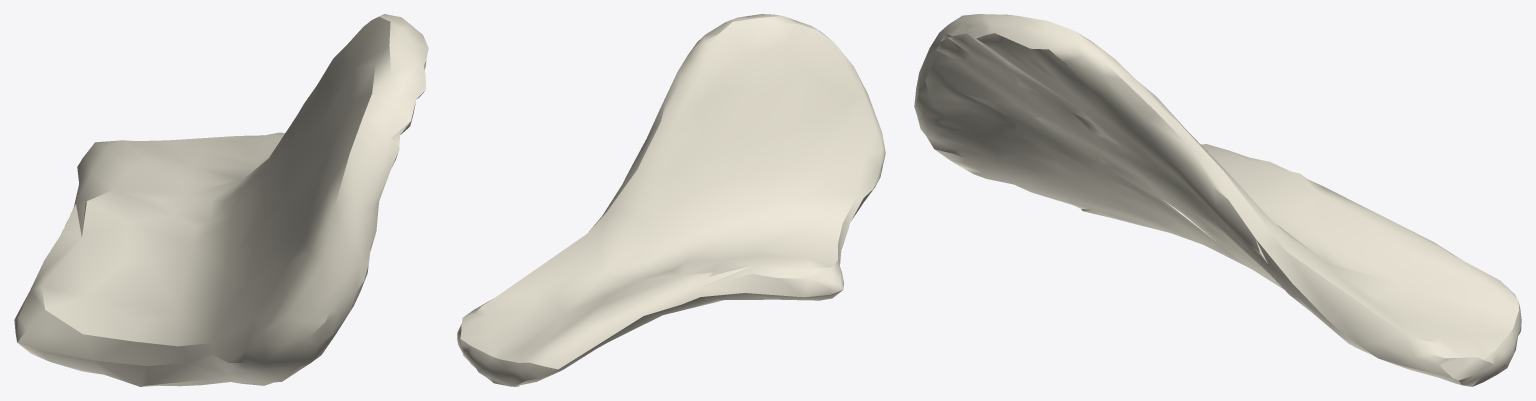
Rendered from fma44252_mm1382m.glb.
3 renders of one model, left to right at view 1: azimuth 30°, elevation 25°; view 2: azimuth 150°, elevation 25°; view 3: azimuth 270°, elevation 25°, orthographic. The views are drawn at different scales.
Visible parts, largest first — view 1: FMA44252_MM1382M; view 2: FMA44252_MM1382M; view 3: FMA44252_MM1382M.
Boxes of the visible parts, <box> form: FMA44252_MM1382M: <box>14,14,428,386</box>; FMA44252_MM1382M: <box>457,14,885,386</box>; FMA44252_MM1382M: <box>914,14,1521,386</box>.
Bounding box in the file's own units: 0.022 × 0.0182 × 0.0322.
